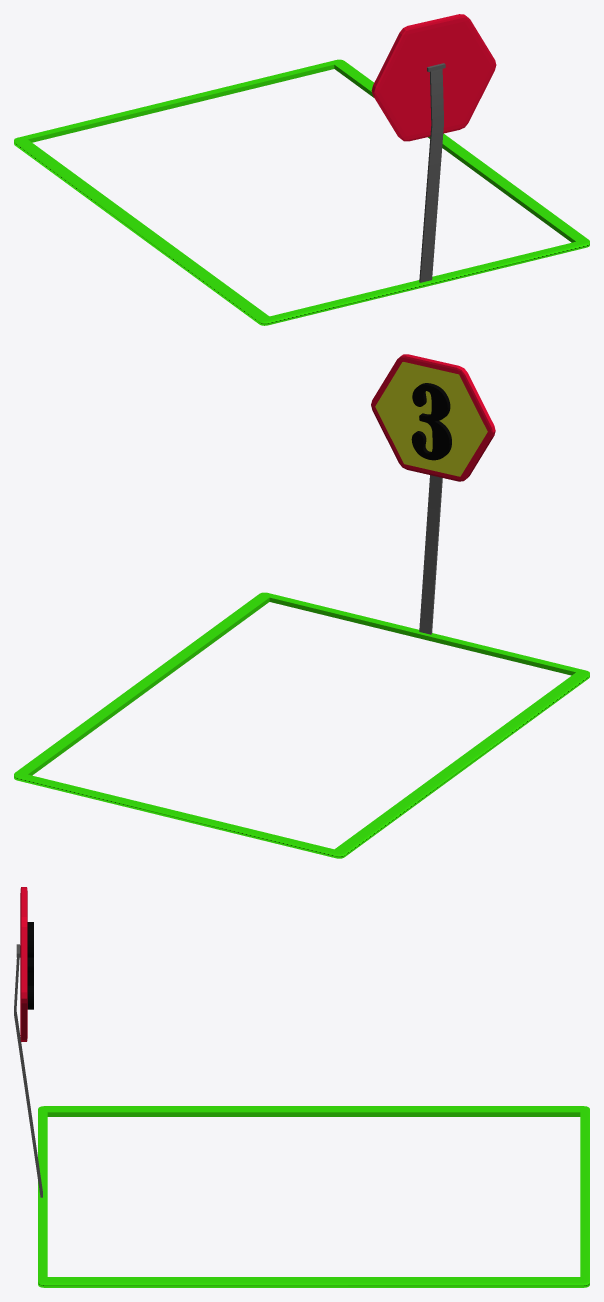
The model's file is Three Parking.fbx.
The picture shows the model from 3 angles, top to bottom: view 1: azimuth 30°, elevation 25°; view 2: azimuth 150°, elevation 25°; view 3: azimuth 270°, elevation 25°; orthographic projection. The views are drawn at different scales.
Parts seen in each view (by area): view 1: Cube, Cylinder; view 2: Cube, Cylinder.001, Cylinder, Text; view 3: Cube, Cylinder, Text.
Part boxes in pixels (left/top/right/bottom): Cube: left=14, top=59, right=589, bottom=325; Cylinder: left=371, top=14, right=496, bottom=141; Cube: left=14, top=475, right=589, bottom=858; Cylinder.001: left=375, top=362, right=487, bottom=476; Cylinder: left=371, top=354, right=495, bottom=481; Text: left=411, top=383, right=451, bottom=460; Cube: left=14, top=944, right=589, bottom=1287; Cylinder: left=20, top=887, right=27, bottom=1041; Text: left=27, top=922, right=33, bottom=1009.
Size of the model in its own units: 316 by 248 by 435.
